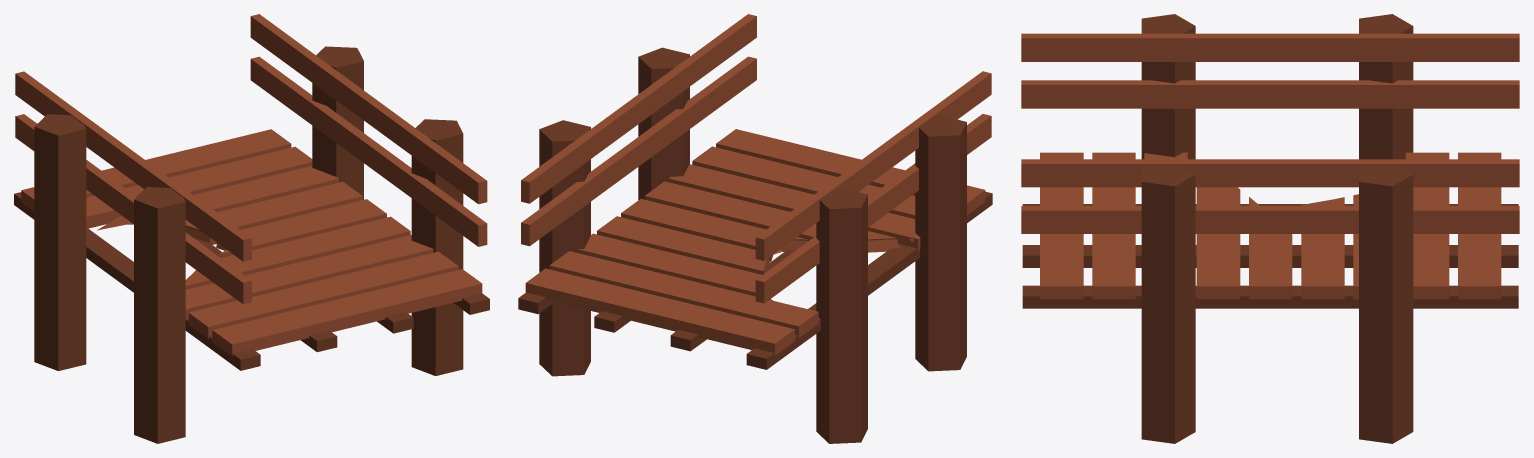
File: Trozo 2 Puente.fbx
3 renders of one model, left to right at view 1: azimuth 30°, elevation 25°; view 2: azimuth 150°, elevation 25°; view 3: azimuth 270°, elevation 25°, orthographic. The views are drawn at different scales.
Visible parts, largest first — view 1: Cube.001, Cylinder.002, Cylinder, Cylinder.001, Cube.004, Cube.003, Cube.006, Cube, Cube.005, Cylinder.003; view 2: Cube.001, Cylinder.002, Cylinder, Cylinder.003, Cube.004, Cube.003, Cube.006, Cube, Cube.005, Cylinder.001; view 3: Cube.001, Cylinder.001, Cylinder.003, Cube.006, Cube.005, Cube.004, Cube.003, Cube, Cylinder.002, Cylinder.
Part boxes in pixels (box(x1,y1,x2,y2)): Cube.001: box(21, 129, 482, 356); Cylinder.002: box(34, 114, 86, 370); Cylinder: box(134, 187, 185, 443); Cylinder.001: box(411, 119, 463, 375); Cube.004: box(250, 14, 487, 204); Cube.003: box(250, 56, 487, 246); Cube.006: box(15, 71, 251, 261); Cube: box(14, 192, 489, 370); Cube.005: box(15, 114, 251, 304); Cylinder.003: box(312, 46, 363, 199); Cube.001: box(525, 129, 985, 355); Cylinder.002: box(816, 187, 867, 443); Cylinder: box(915, 115, 966, 371); Cylinder.003: box(539, 120, 590, 376); Cube.004: box(521, 14, 756, 203); Cube.003: box(521, 56, 756, 246); Cube.006: box(755, 71, 991, 260); Cube: box(518, 191, 992, 369); Cube.005: box(755, 114, 991, 303); Cylinder.001: box(638, 47, 689, 199); Cube.001: box(1040, 152, 1501, 299); Cylinder.001: box(1141, 165, 1195, 443); Cylinder.003: box(1359, 165, 1413, 443); Cube.006: box(1021, 33, 1519, 61); Cube.005: box(1021, 80, 1519, 108); Cube.004: box(1021, 159, 1519, 187); Cube.003: box(1021, 206, 1519, 233); Cube: box(1022, 204, 1518, 308); Cylinder.002: box(1359, 14, 1413, 159); Cylinder: box(1141, 14, 1195, 159).
Size of the model in its own units: 563 by 394 by 689.
